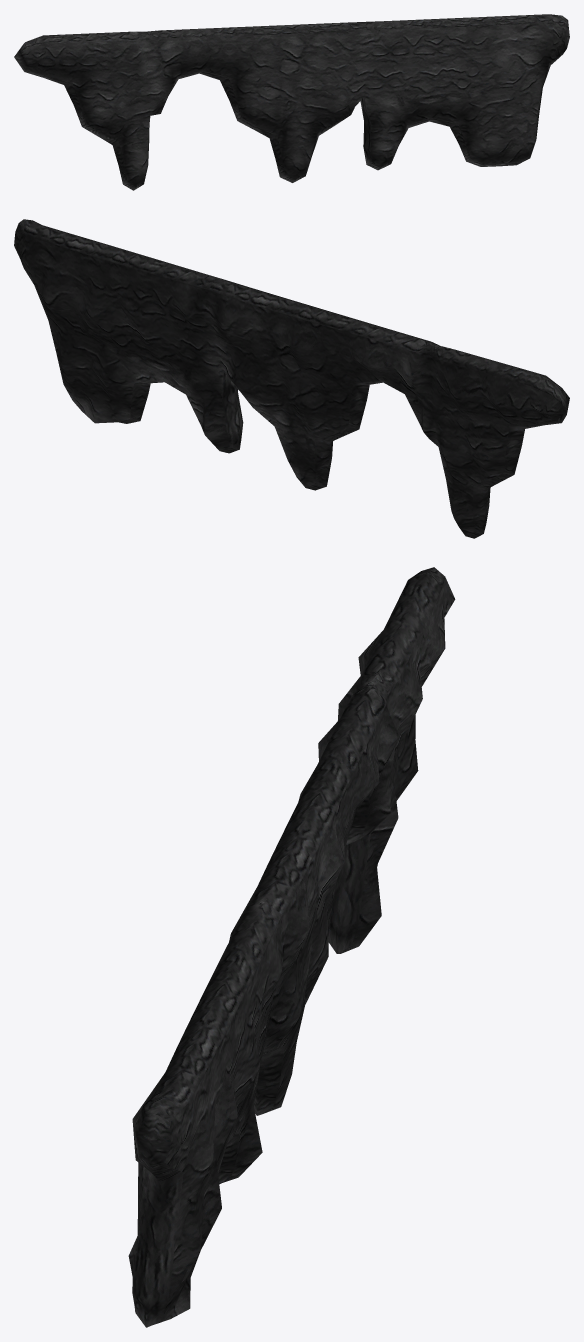
Rendered from BrickWallStraight10Shape.dae.
The picture shows the model from 3 angles, top to bottom: view 1: azimuth 30°, elevation 25°; view 2: azimuth 150°, elevation 25°; view 3: azimuth 270°, elevation 25°; orthographic projection. The views are drawn at different scales.
Parts seen in each view (by area): view 1: BrickWallStraight10; view 2: BrickWallStraight10; view 3: BrickWallStraight10.
Part boxes in pixels (left/top/right/bottom): BrickWallStraight10: left=14, top=14, right=569, bottom=190; BrickWallStraight10: left=14, top=219, right=569, bottom=538; BrickWallStraight10: left=128, top=567, right=455, bottom=1327.
Size of the model in its own units: 38.56 by 13.57 by 11.27.
